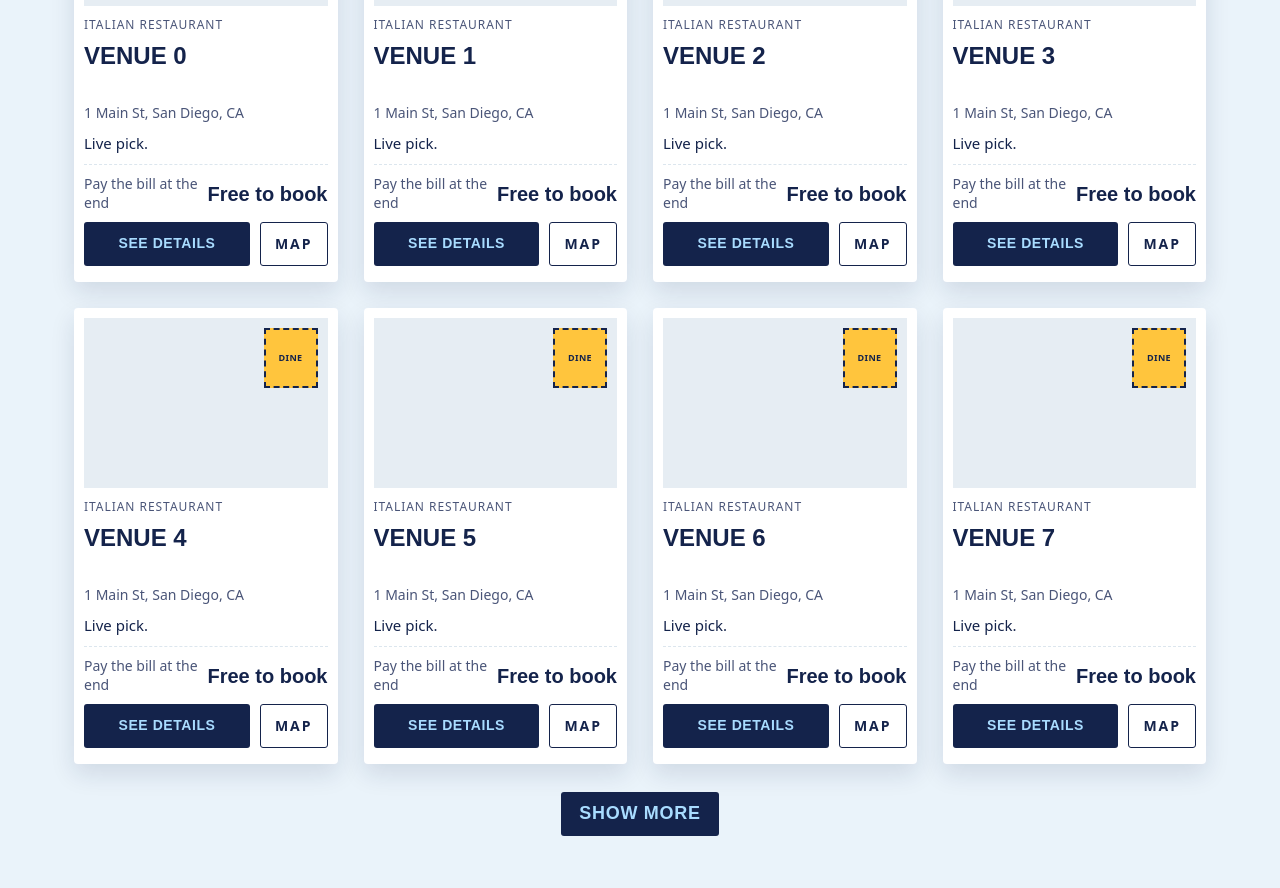
Test: PlanView › 2 rows of 4, then Show more › 20 options: 8, then 16, then all 20 and the button goes away
(page scrolled)
Click the button "Show more".
click(640, 814)  # box [561,792,719,836]
(page scrolled)
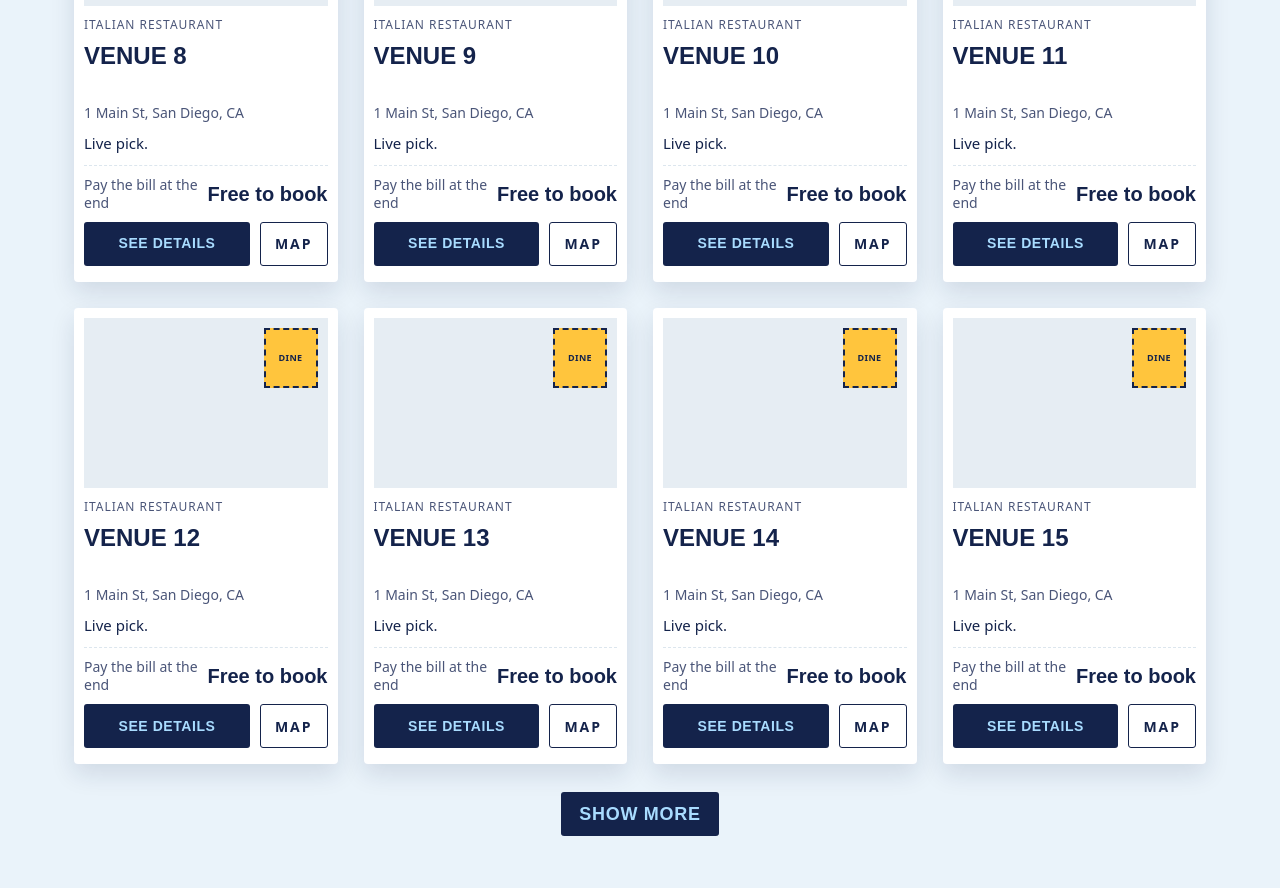
Click the button "Show more".
click(640, 814)  # box [561,792,719,836]
(page scrolled)
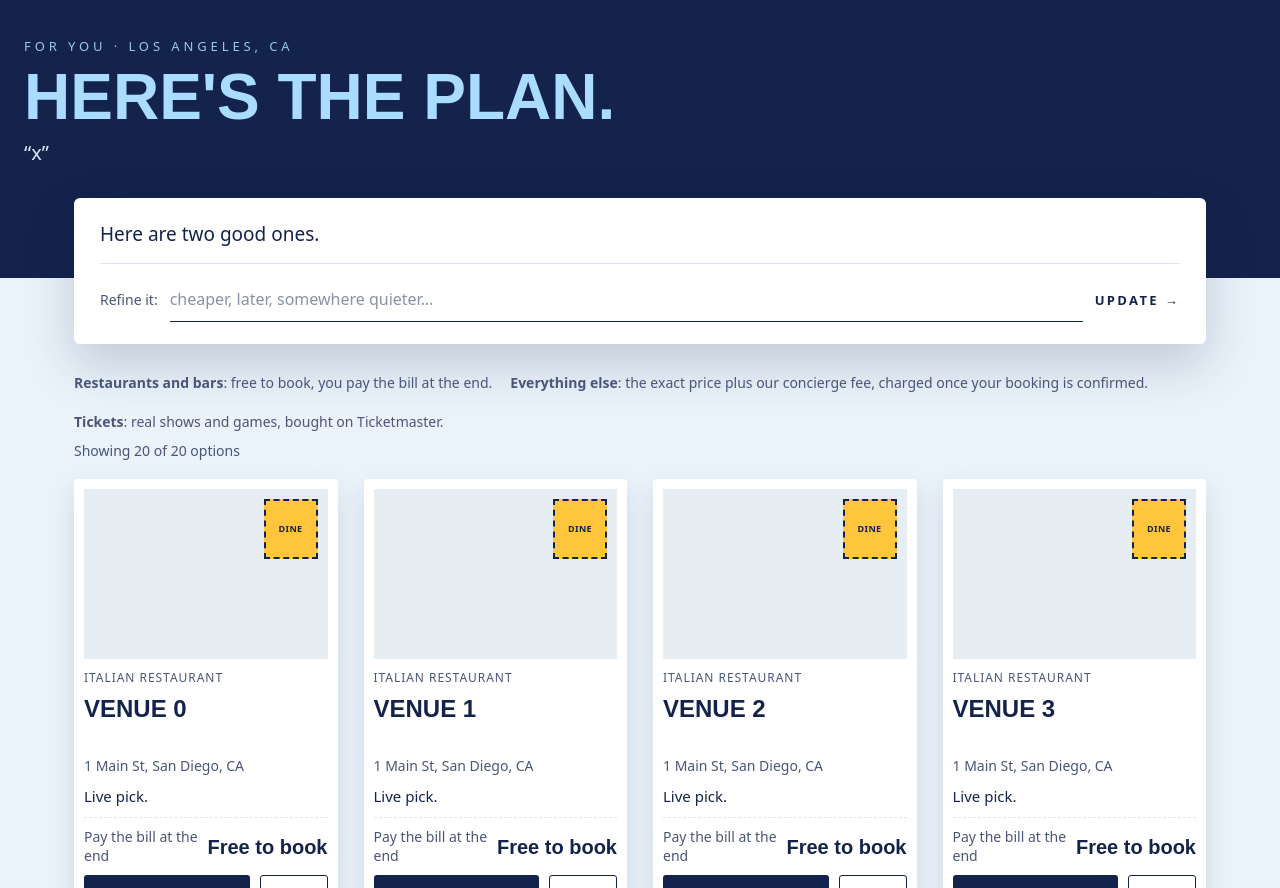
Result: the text "Showing 20 of 20 options" is shown at [74,441,240,460]
Result: the button "Show more" is gone
